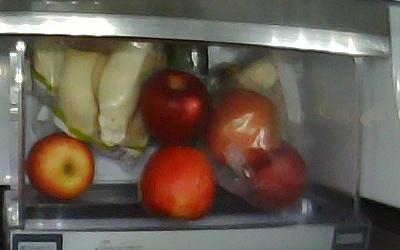apple: (137, 142, 216, 222), (137, 67, 210, 147), (24, 129, 95, 200)
apple_vinyl: (199, 87, 280, 170), (245, 138, 307, 208)
